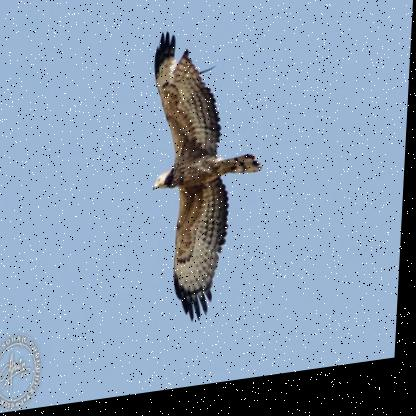Burung: (142, 19, 273, 337)
